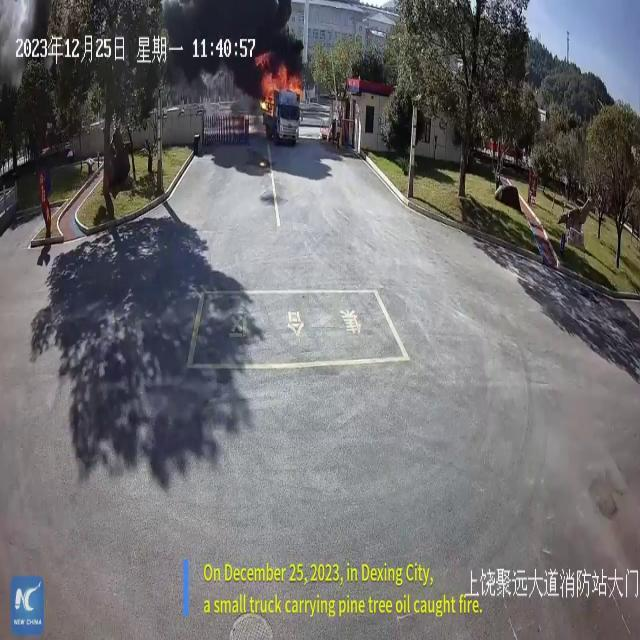Fire: (256, 59, 305, 115)
